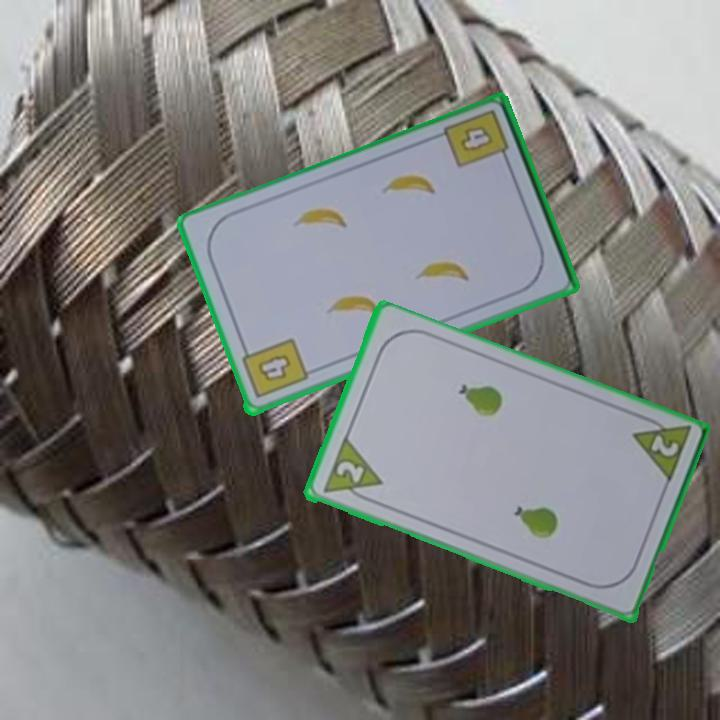2p: (628, 410, 693, 487), (318, 435, 386, 507)
4b: (237, 335, 310, 402), (456, 122, 497, 156)
